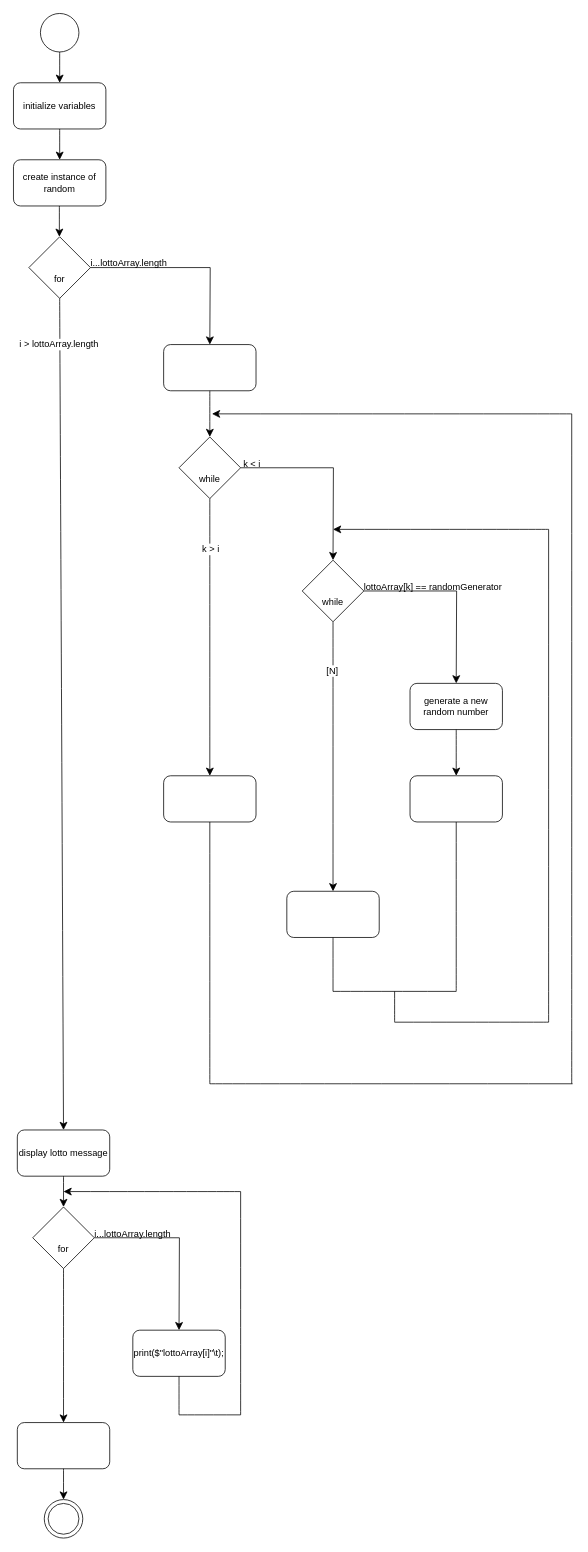
The diagram is 588 pixels wide and 1552 high, and some of its shapes have lost their labels. Here are the shapes that lost their labels. From the top down, the centre of each, then its label:
At point (209, 367): "k = 0; generate a random number".
At point (209, 798): "lottoArray[i] = randomGenerator".
At point (455, 798): "reset k to 0".
At point (332, 914): "k++;".
At point (63, 1445): "pause the program".
